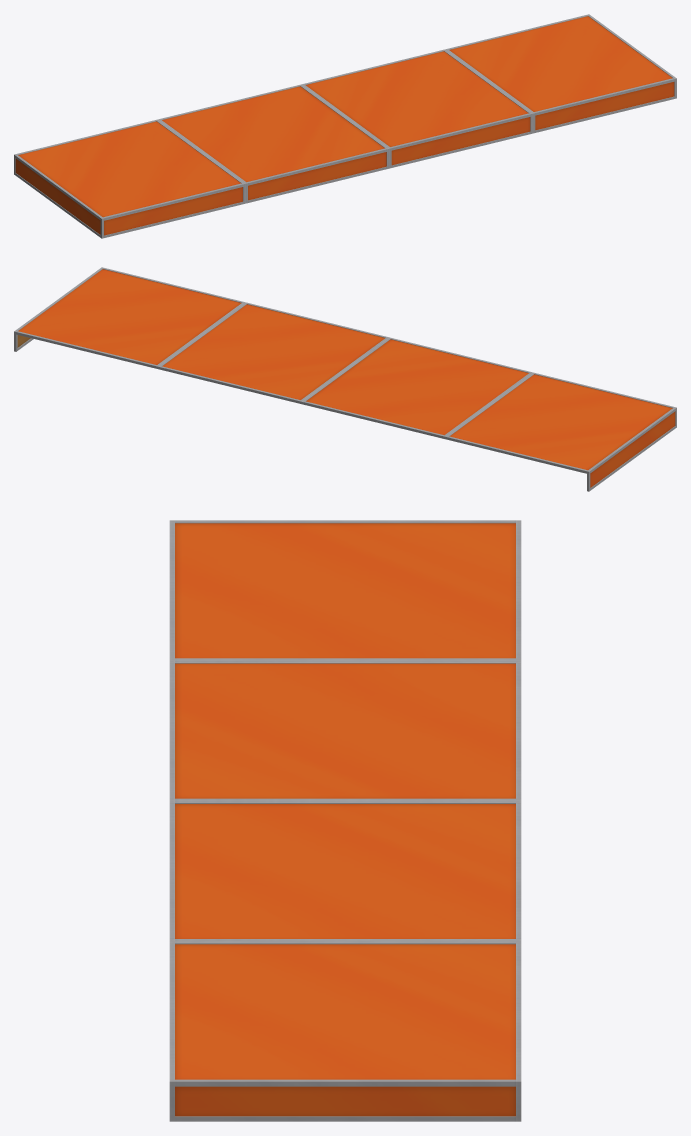
Rendered from jsf_2P_s04_c01_t01_DX.fbx.
3 views of the same model, one above another, from view 1: azimuth 30°, elevation 25°; view 2: azimuth 150°, elevation 25°; view 3: azimuth 270°, elevation 25° (orthographic). The views are drawn at different scales.
Visible parts, largest first — view 1: jsf_2P_s04_c01_t01_DX; view 2: jsf_2P_s04_c01_t01_DX; view 3: jsf_2P_s04_c01_t01_DX.
Boxes of the visible parts, box(x1,y1,x2,y2) form: jsf_2P_s04_c01_t01_DX: box(14, 14, 676, 238); jsf_2P_s04_c01_t01_DX: box(14, 267, 676, 491); jsf_2P_s04_c01_t01_DX: box(169, 520, 521, 1121).
Size of the model in its own units: 378 by 12.51 by 100.
